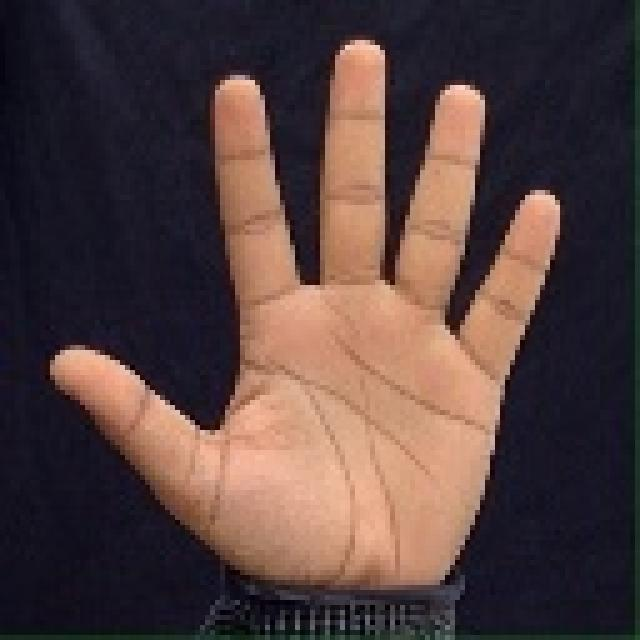Numeric-5: (45, 32, 565, 607)
